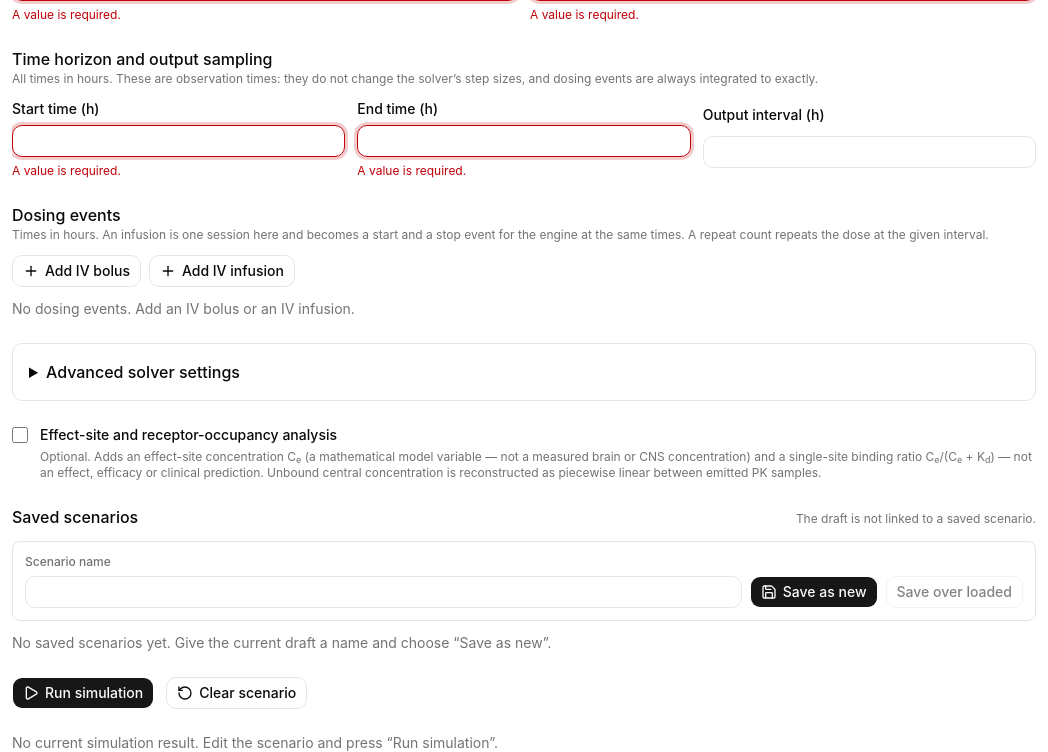
saved scenarios — save › saves the current draft under a name and lists it
(page scrolled)
Check: the text with test id "scenarios-empty" is shown, box [12,634,552,651]
Type "  Kidney example  " into the field with test id "scenario-name-input" at (383, 592), box [25,576,742,608]
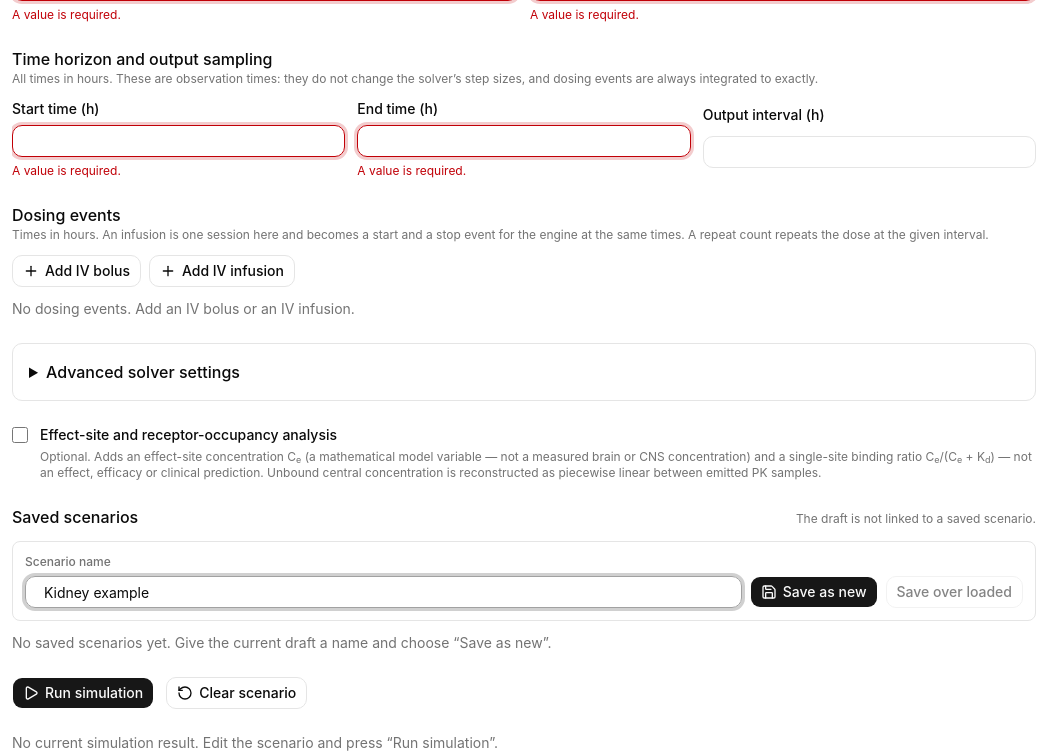
Click the button with test id "scenario-save" at (814, 592), box [750,576,878,608]
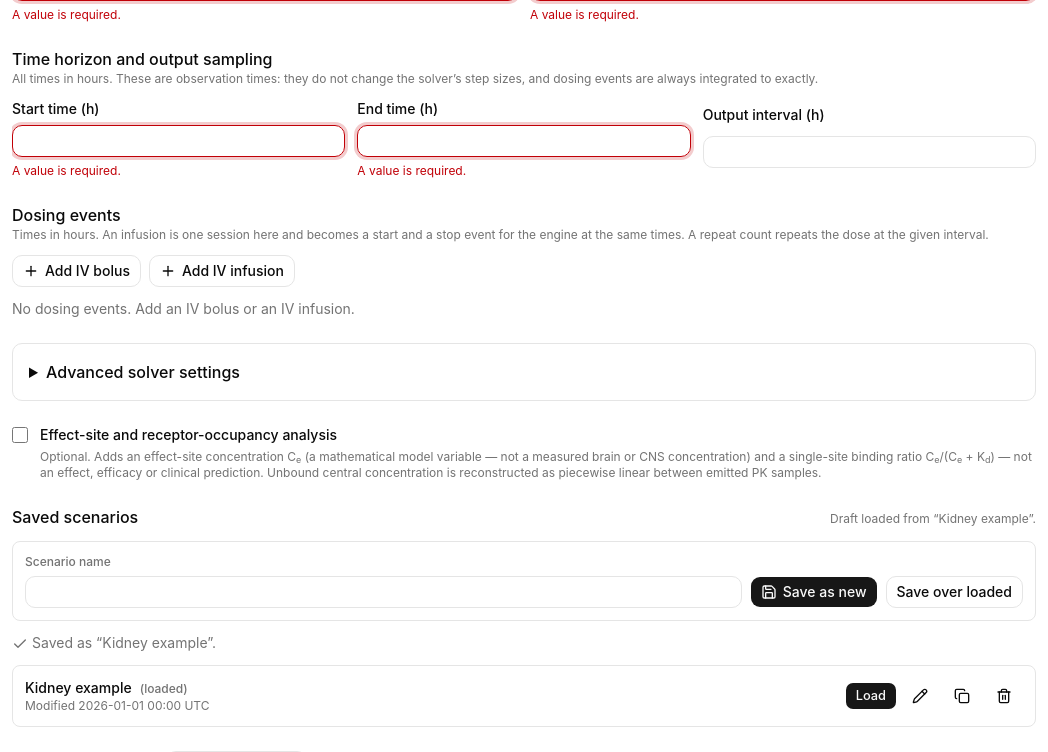
Check: the text "Kidney example" is shown, box [25,679,132,696]
Check: the message with test id "scenario-feedback" shows "Saved as “Kidney example”", box [32,634,216,651]
